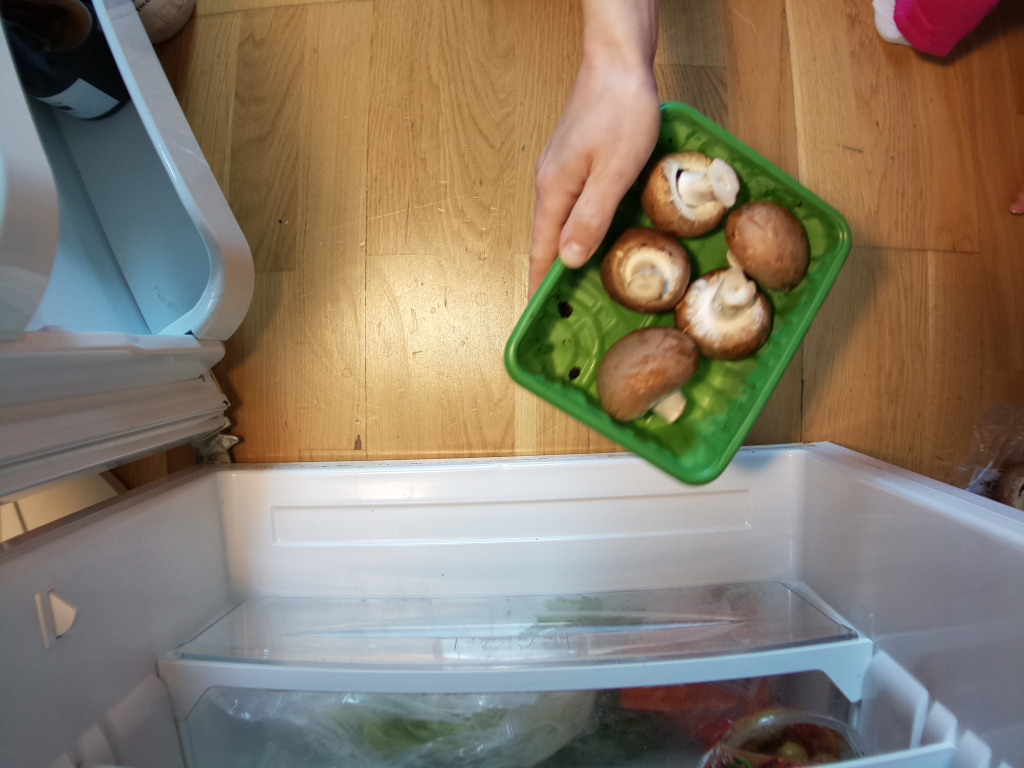mushrooms: (506, 102, 850, 486)
